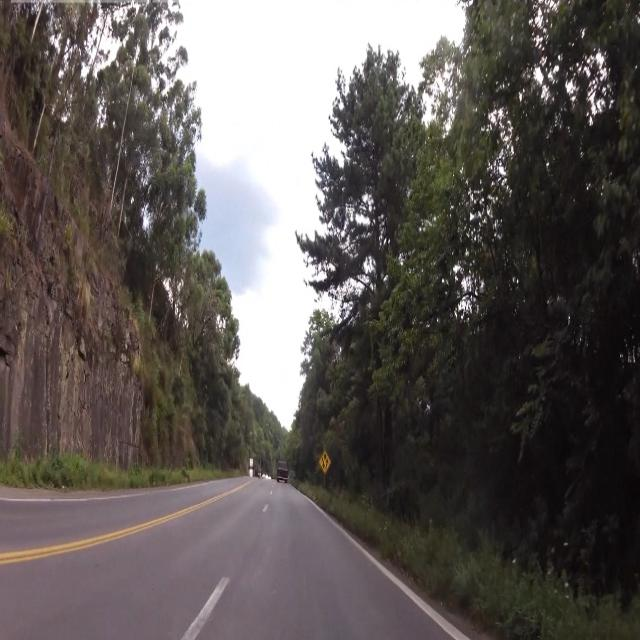A-42a: (318, 449, 332, 475)
